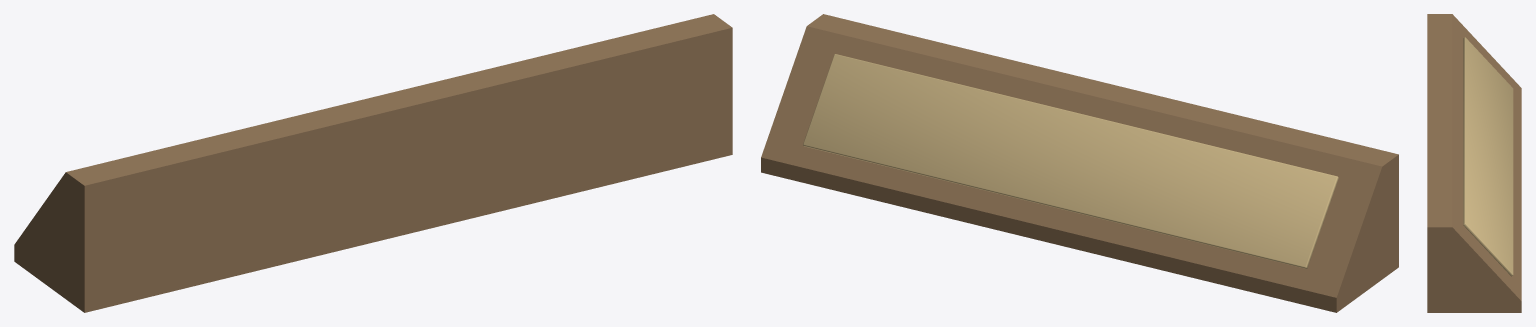
Rendered from ss_nameplate.glb.
3 renders of one model, left to right at view 1: azimuth 30°, elevation 25°; view 2: azimuth 150°, elevation 25°; view 3: azimuth 270°, elevation 25°, orthographic. The views are drawn at different scales.
Visible parts, largest first — view 1: ss_nameplate; view 2: ss_nameplate; view 3: ss_nameplate.
Boxes of the visible parts, box(x1,y1,x2,y2) form: ss_nameplate: box(14, 14, 732, 312); ss_nameplate: box(761, 14, 1398, 312); ss_nameplate: box(1427, 14, 1521, 312).
Size of the model in its own units: 0.24 by 0.045 by 0.045.
